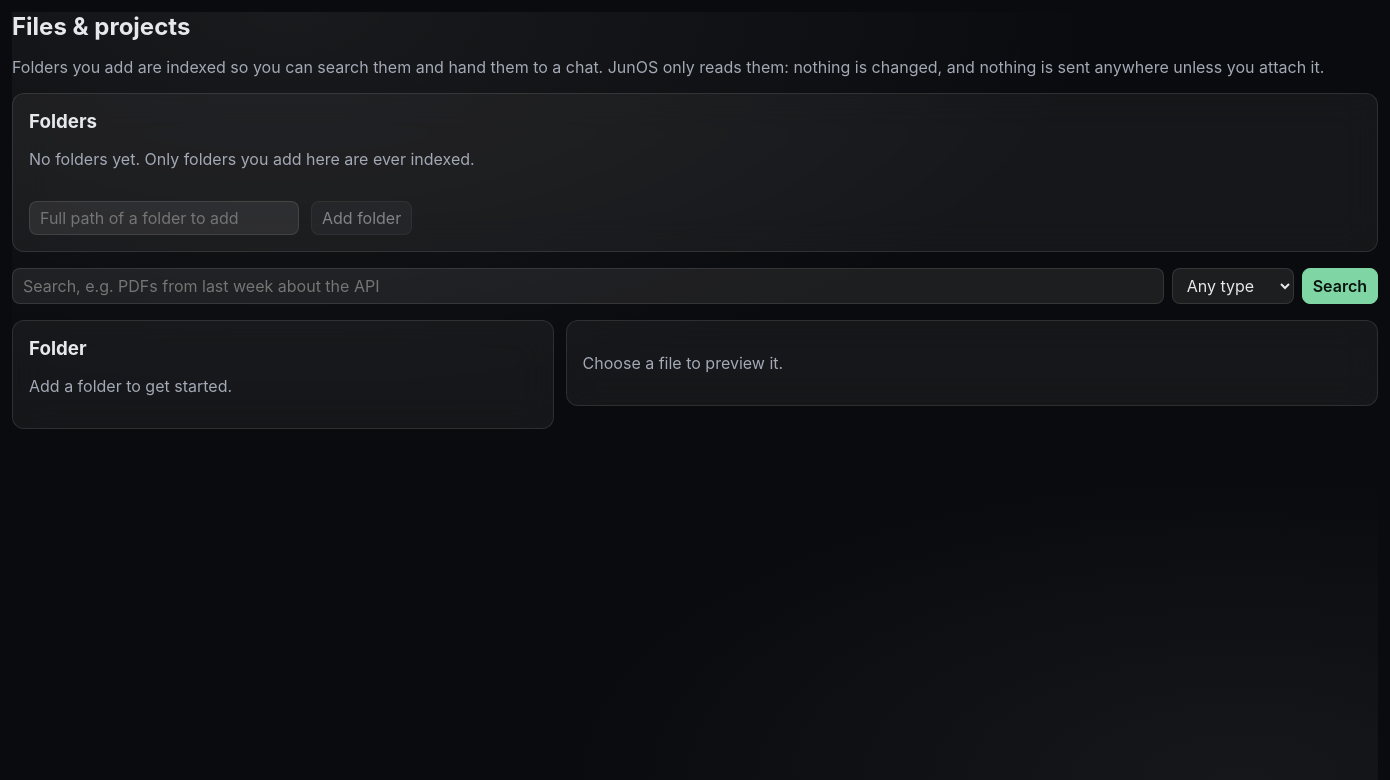
Test case: Files page › searches in words, shows the matches marked as text, and what the question was understood as
The width and height of the screenshot is (1390, 780).
Type "PDFs from last week about the API" into the field named "Search files".
click(588, 286); type("PDFs from last week about the API")  # box [12,268,1164,304]
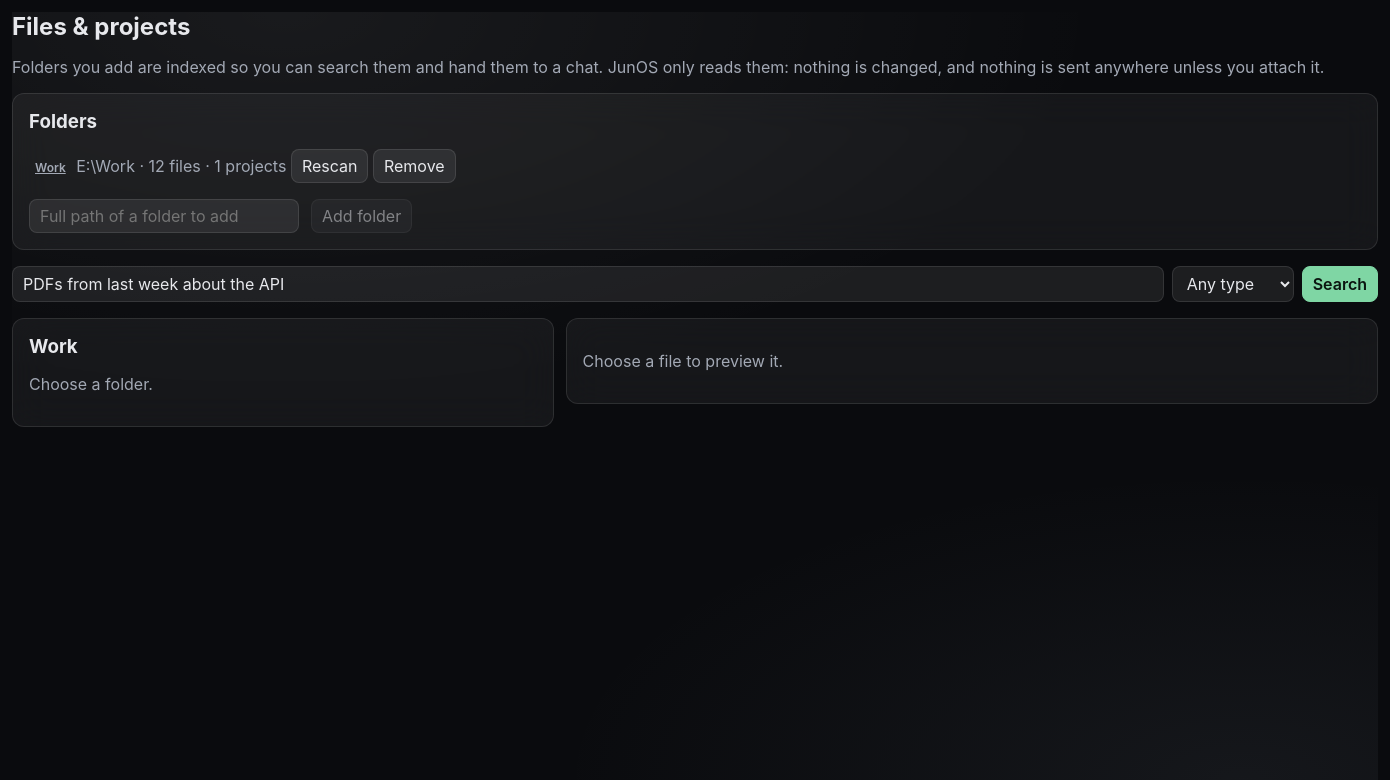
Select "PDFs" in the dropdown named "File type" at (1233, 284), box [1172,266,1294,302]
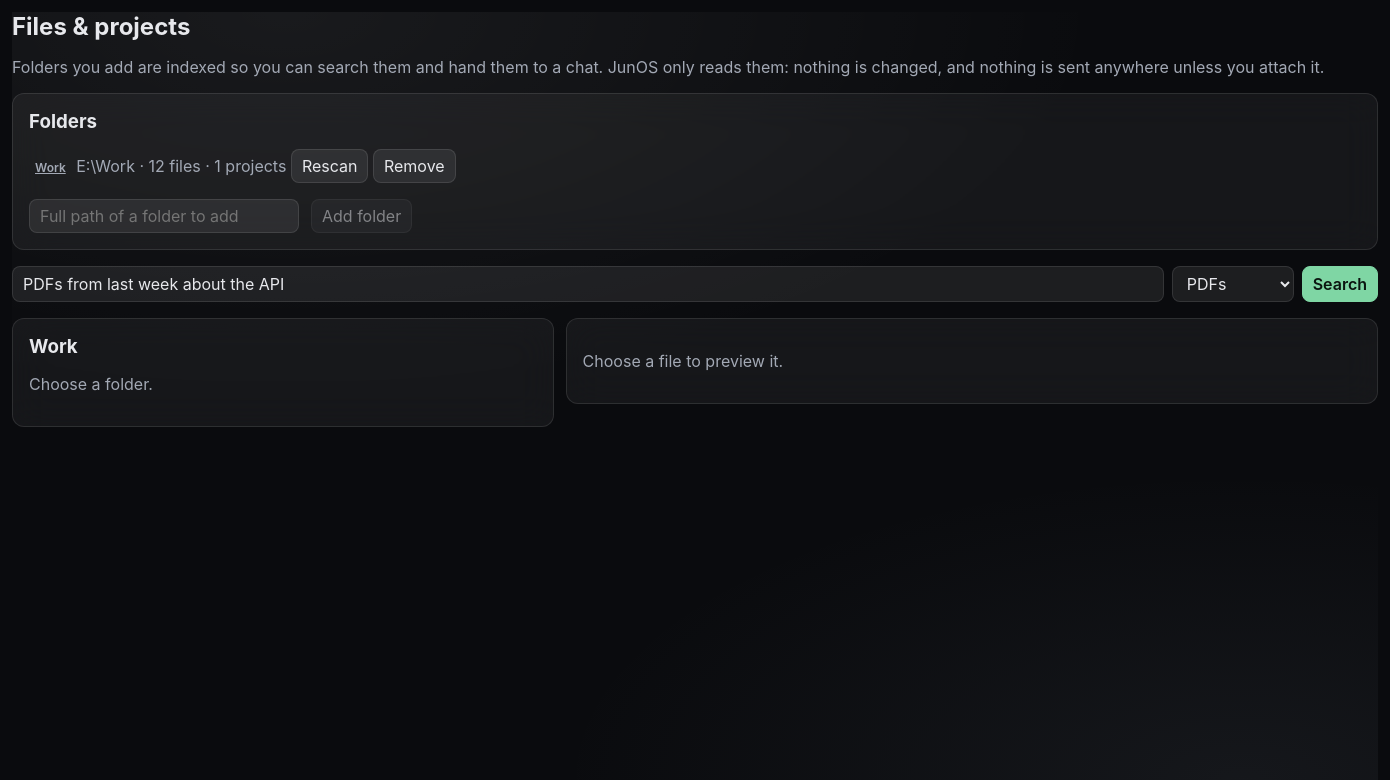
Click the button "Search".
click(1340, 284)  # box [1302,266,1378,302]
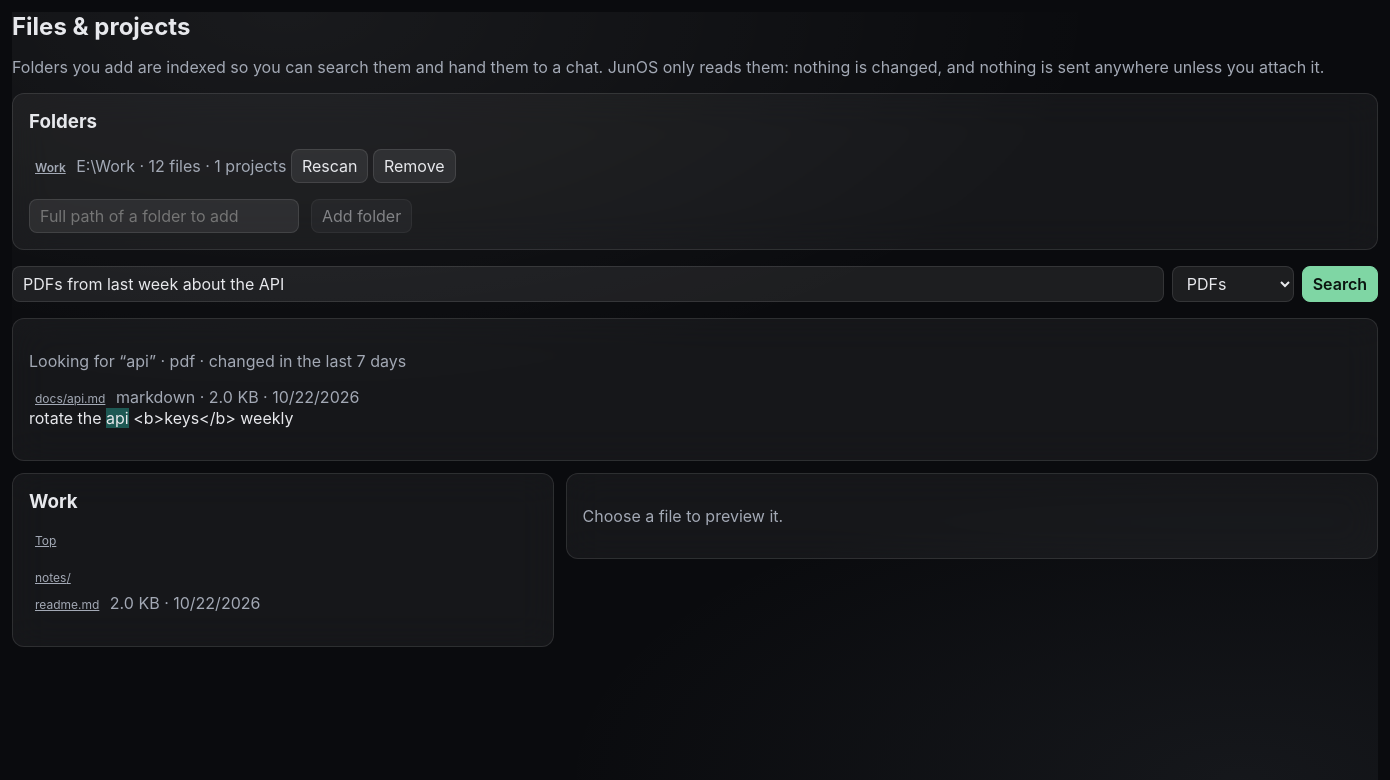
expect the text "Looking for “api” · pdf · changed in the last 7 days" is shown: met, box [29,351,406,371]
expect the text "api" is shown: met, box [106,408,129,428]
expect the text "<b>keys</b> weekly" is shown: met, box [129,408,294,428]
